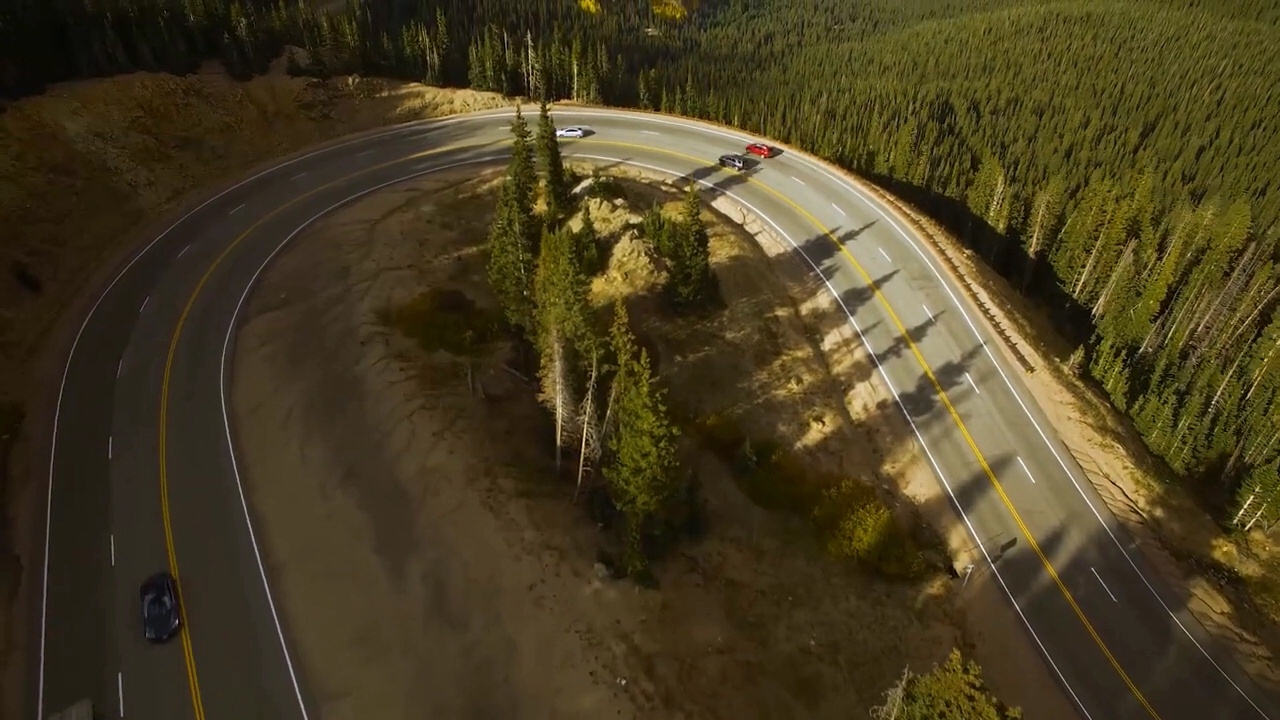araba: (137, 568, 187, 643), (717, 151, 749, 173), (747, 141, 776, 160), (554, 124, 587, 138)
